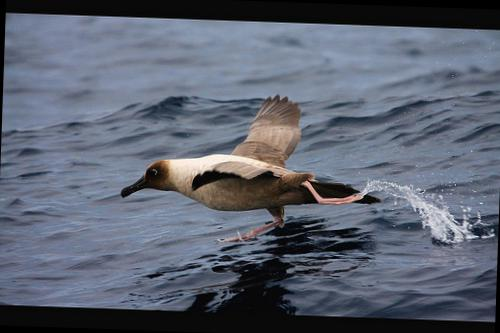bird: (107, 80, 394, 263)
